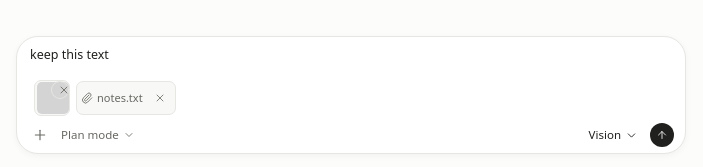
Test: Composer image ingestion › stages mixed file types and rejects unsupported files when sending
This screenshot has width=703, height=167.
Click the button named "Send message": coordinates (662, 135) x1=650 y1=123 x2=674 y2=147
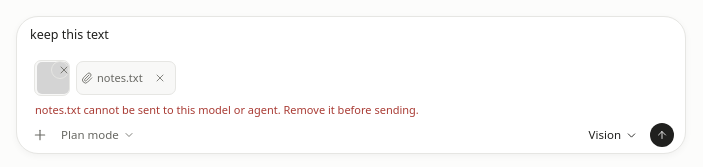
Expected: the dropdown named "Message OMP" holds "keep this text", x1=28 y1=25 x2=674 y2=59
Expected: the message "notes.txt cannot be sent to this model or agent. Remove it before sending." is shown, x1=35 y1=102 x2=419 y2=117
